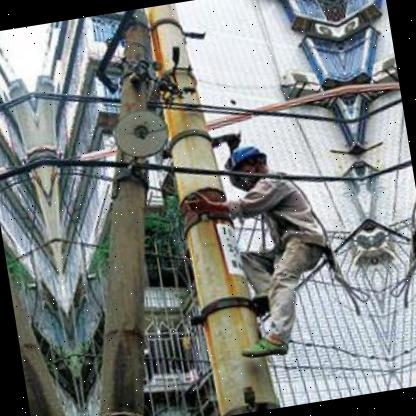capacete: (224, 140, 270, 172)
